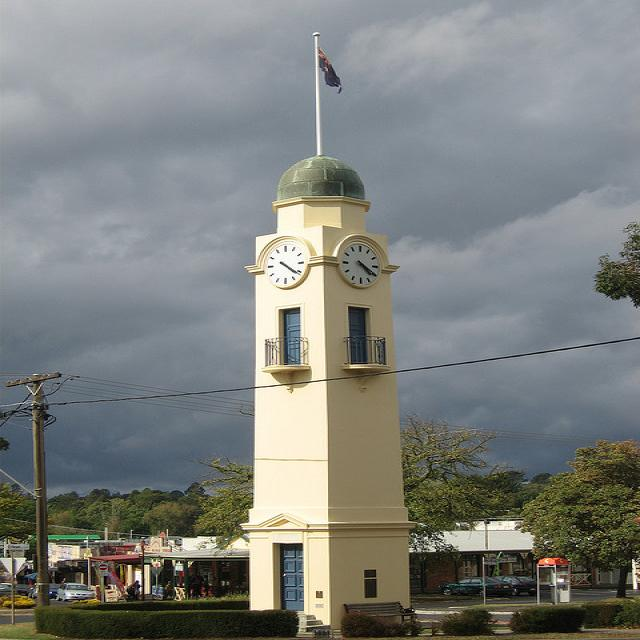Vehicle: (437, 577, 514, 600), (493, 575, 538, 597), (56, 583, 95, 601), (31, 584, 62, 600), (14, 583, 33, 597), (0, 584, 12, 596)
